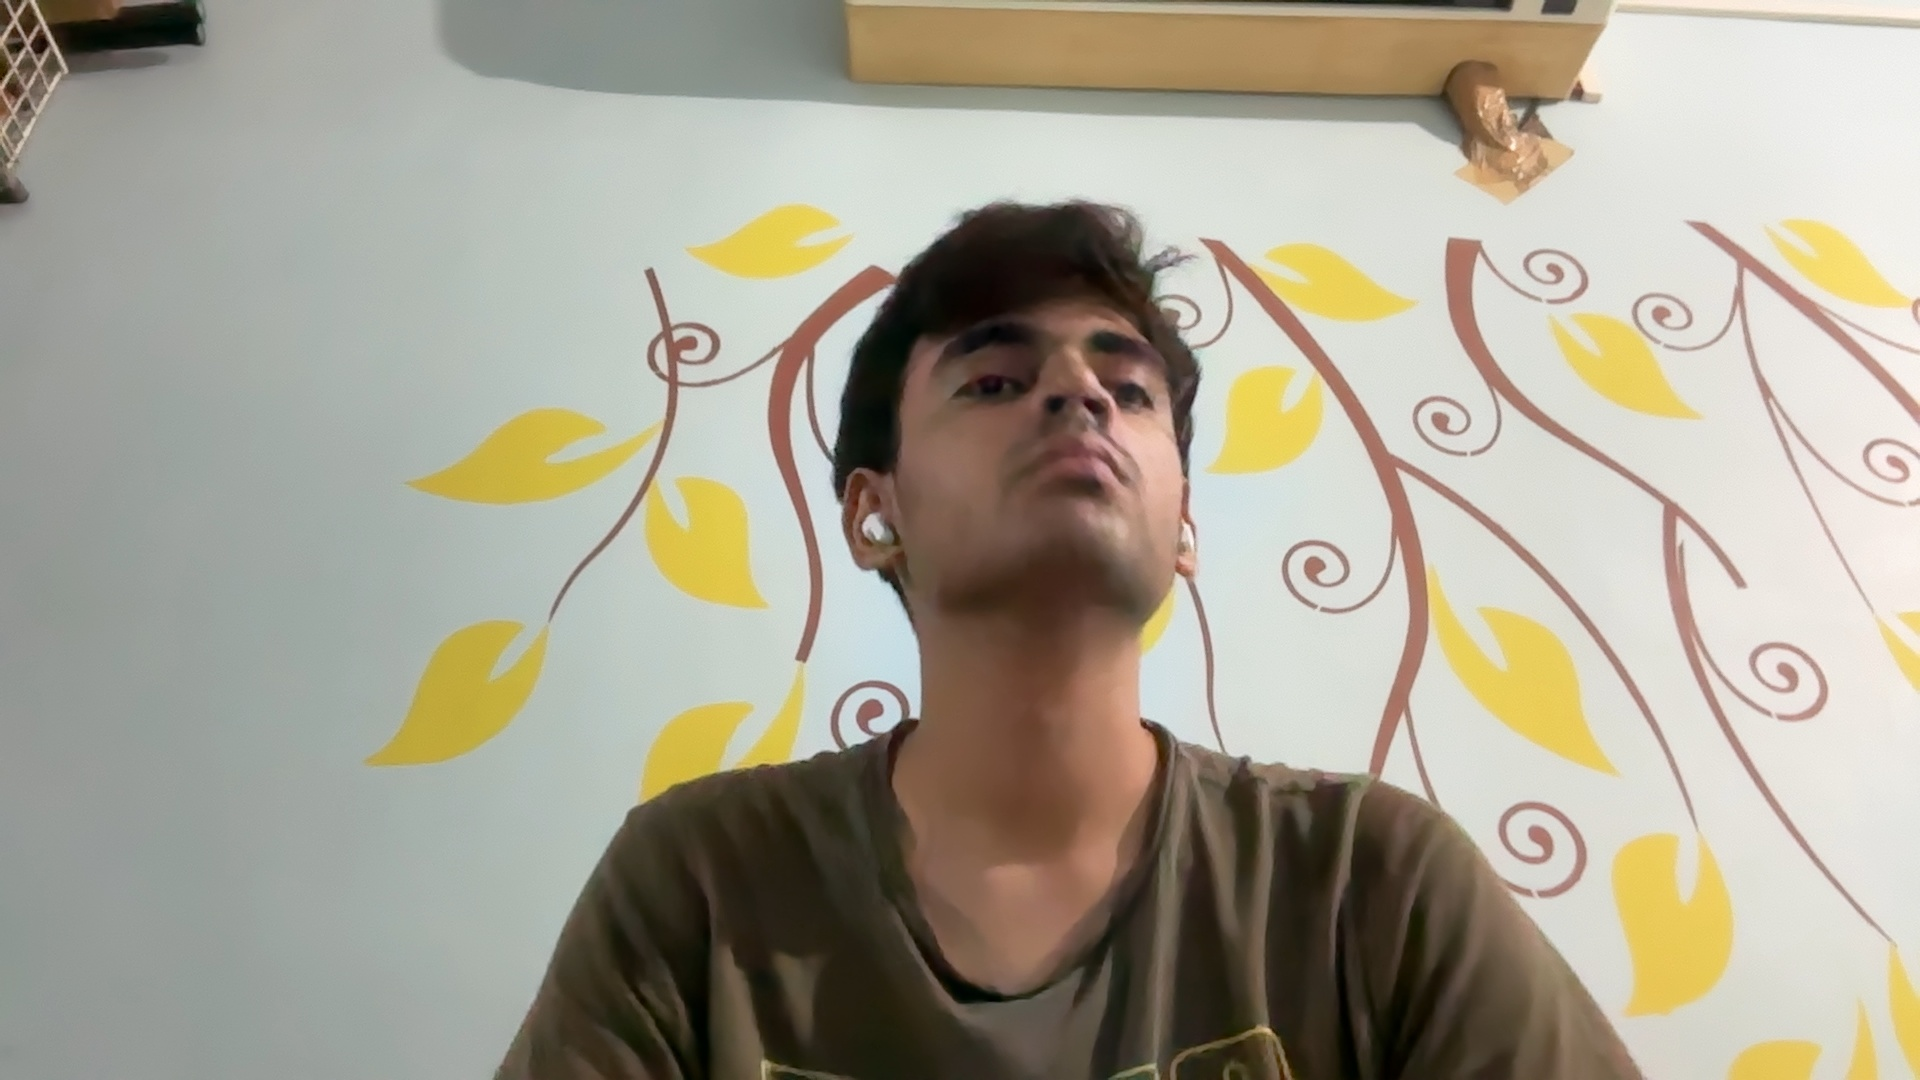No Mask: (945, 392, 1176, 591)
